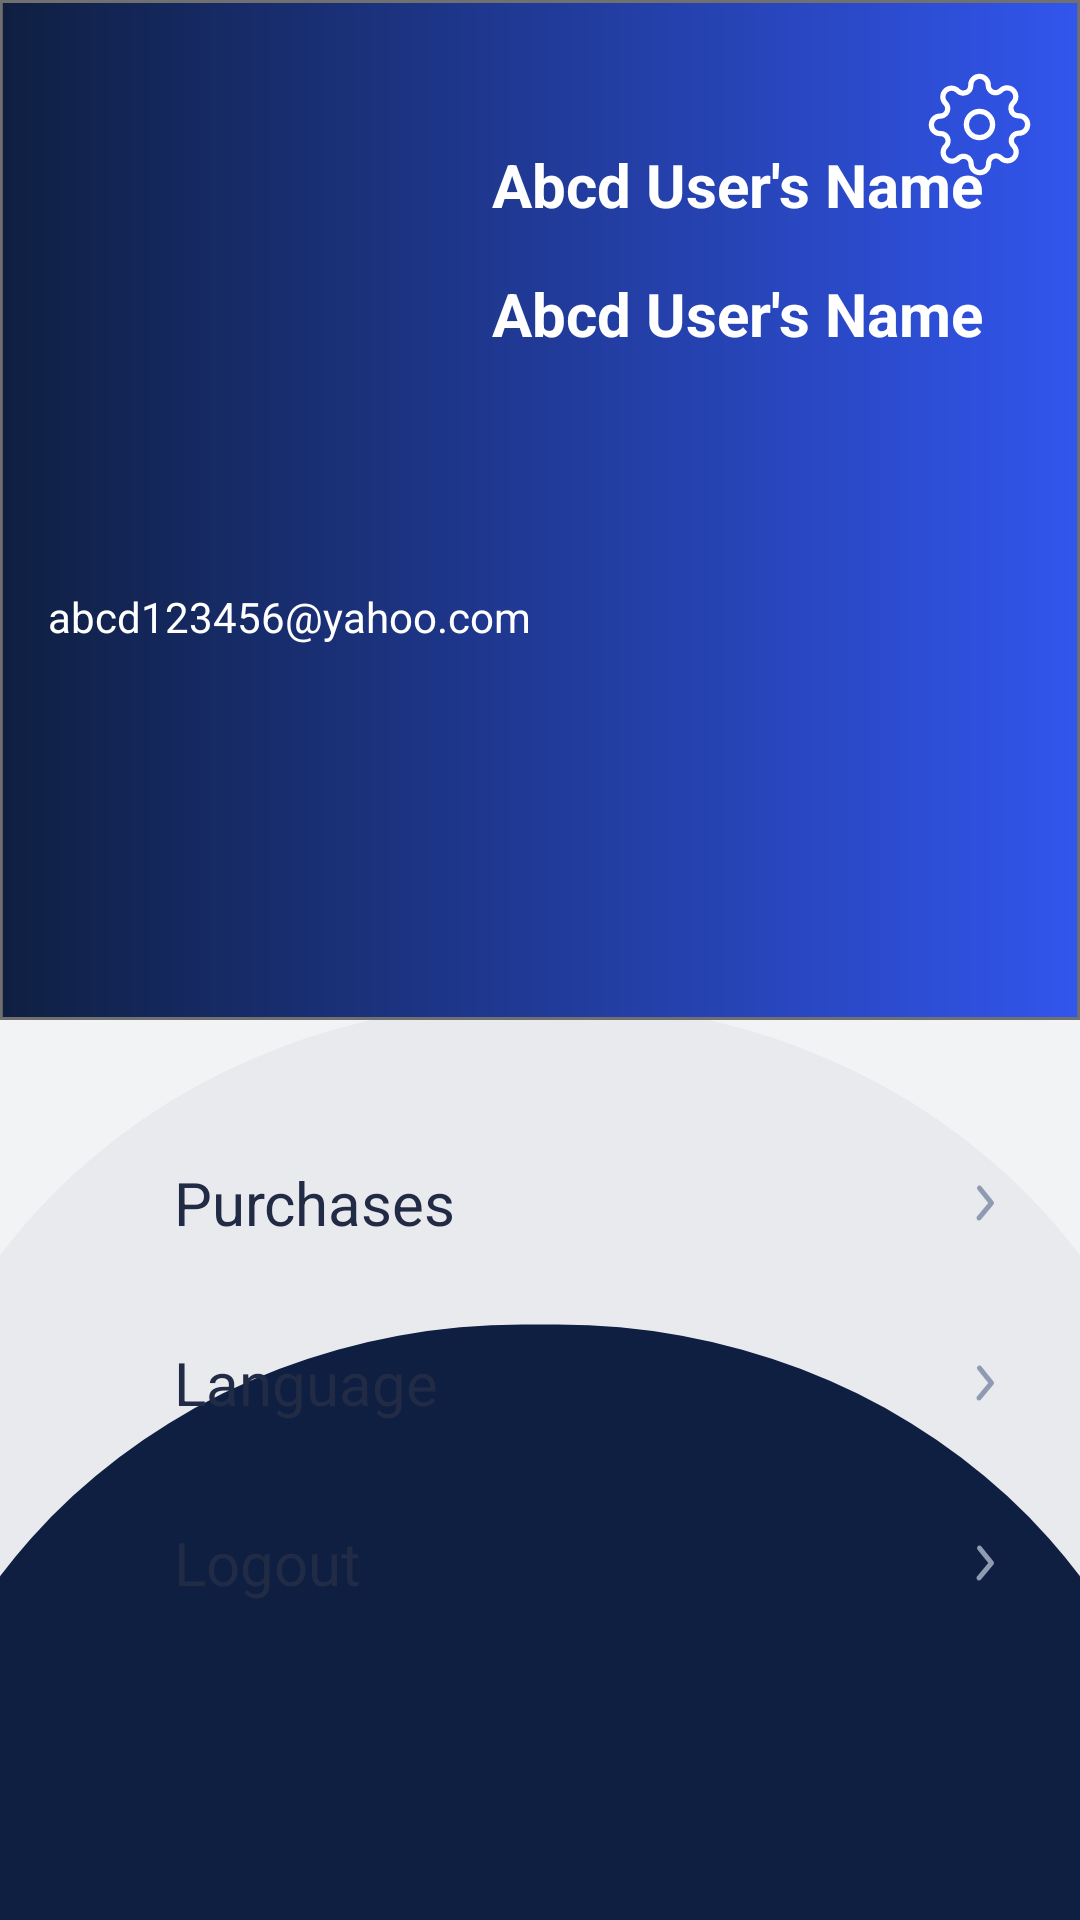

Where to tap for icons on this 1080×1920 app screen, as (x,y):
arrow right: (985,1203), (985,1383), (985,1563)
settings: (979,124)
